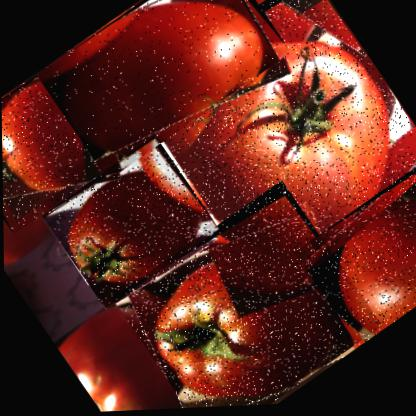tomato: (86, 0, 415, 344), (108, 176, 382, 411), (34, 0, 293, 183), (39, 132, 219, 310), (1, 42, 144, 234), (290, 155, 415, 352)
